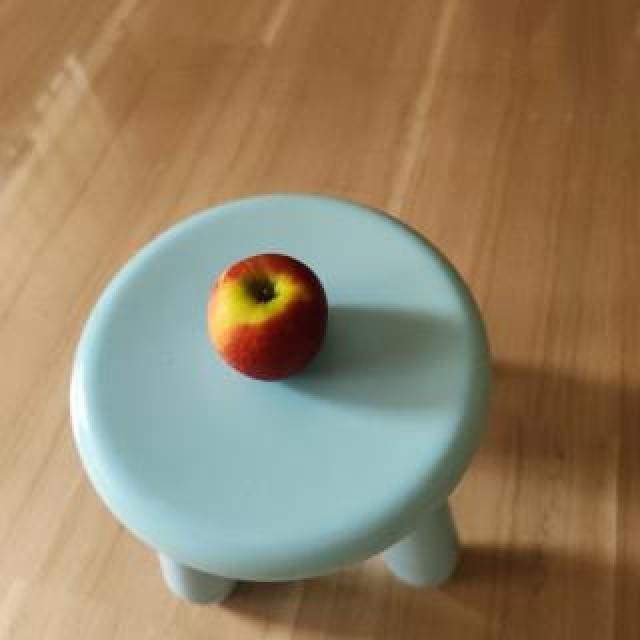Fresh Apple: (212, 258, 324, 376)
